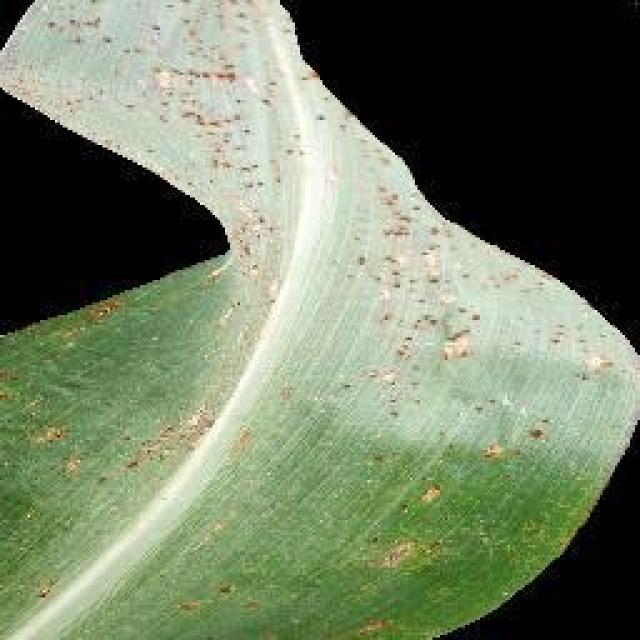Corn Common Rust: (88, 6, 517, 496)
